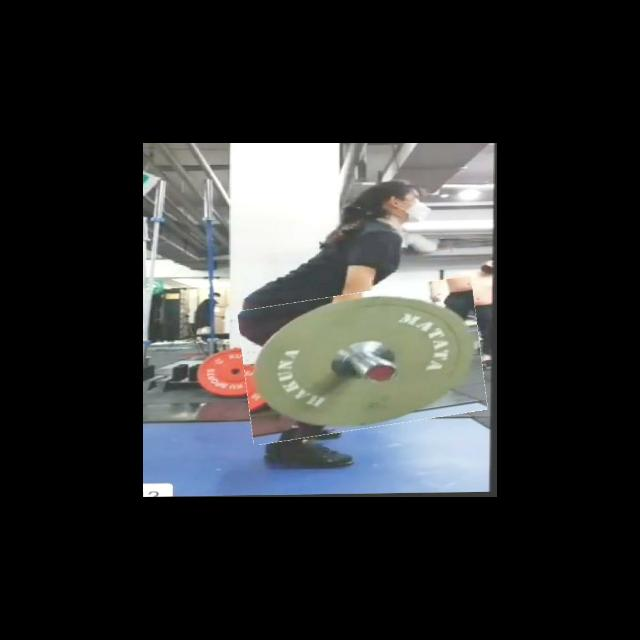barbell: (240, 284, 486, 438)
